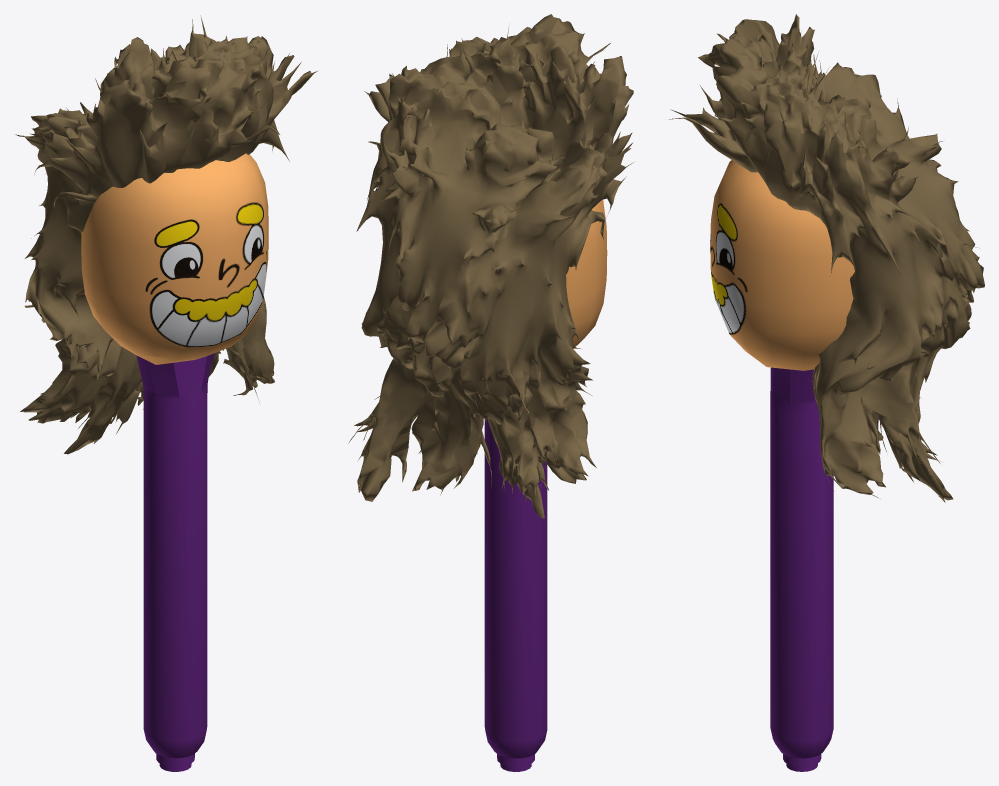
Rendered from micro_v3.glb.
3 renders of one model, left to right at view 1: azimuth 30°, elevation 25°; view 2: azimuth 150°, elevation 25°; view 3: azimuth 270°, elevation 25°, orthographic.
Parts seen in each view (by area): view 1: hair.001, head, handle; view 2: hair.001, handle, head; view 3: hair.001, handle, head.
Part boxes in pixels (x1,y1,x2,y2): hair.001: (15,15,317,454); head: (81,153,268,364); handle: (136,353,214,771); hair.001: (348,14,633,518); handle: (484,418,547,771); head: (566,199,607,348); hair.001: (669,14,984,502); handle: (770,367,833,771); head: (710,160,854,370).
Size of the model in its own units: 1.01 by 2.57 by 1.01.
4 materials, 1 textured.
